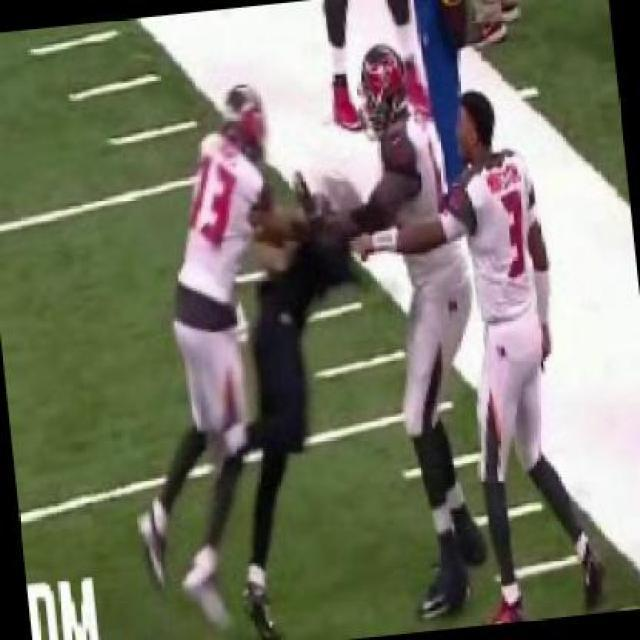fight: (94, 76, 402, 638)
